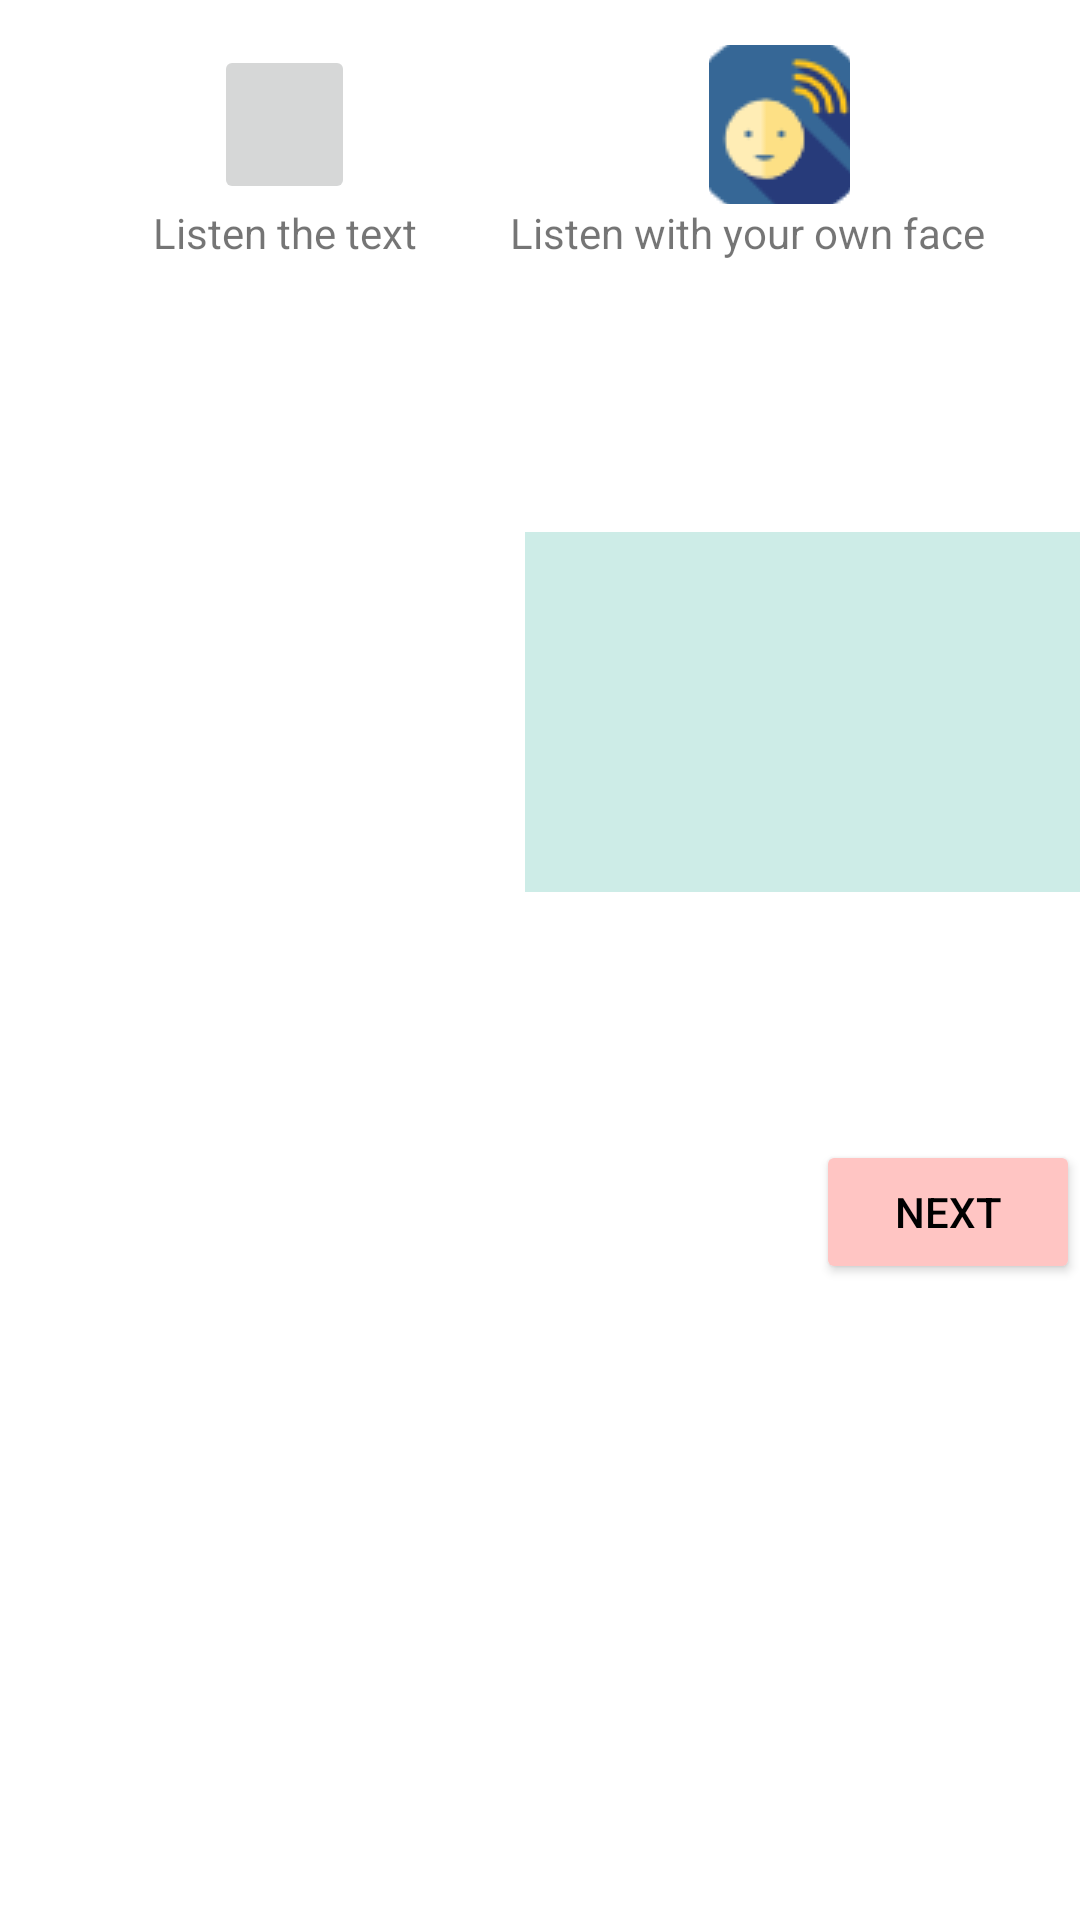

Locate icon controls on the screen. Image size 1080×1920, boxes as (x1, y1, x2, y2).
listen adult own voice: (709, 45, 850, 204)
